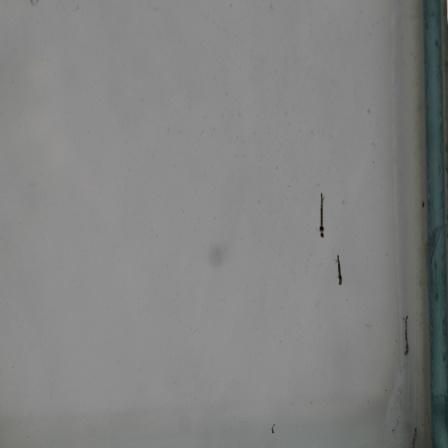Jentik-Nyamuk: (314, 188, 328, 243), (398, 310, 413, 358), (332, 251, 347, 290)
